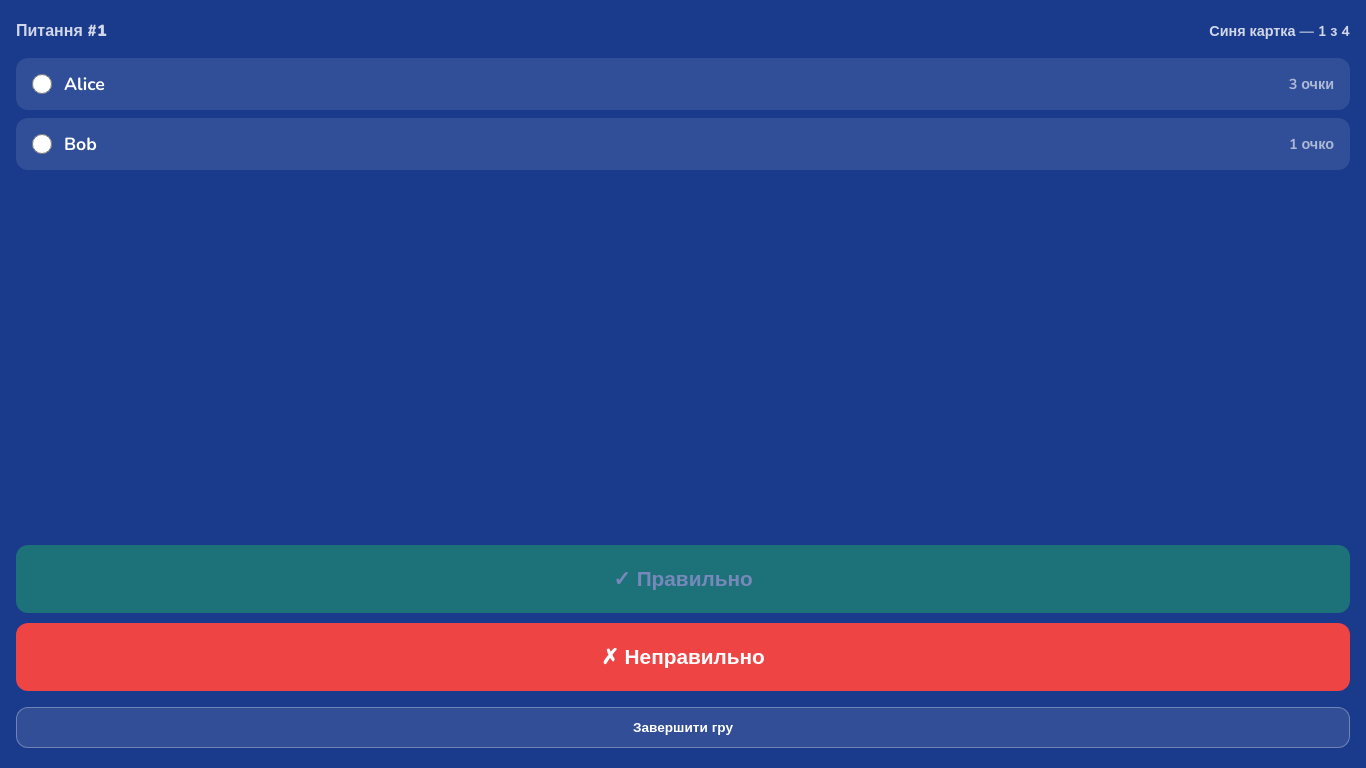
Test: GameScreen › "Correct" button is enabled after selecting a player
Click the radio button labelled "Alice 3 очки": (42, 84) x1=32 y1=74 x2=52 y2=94
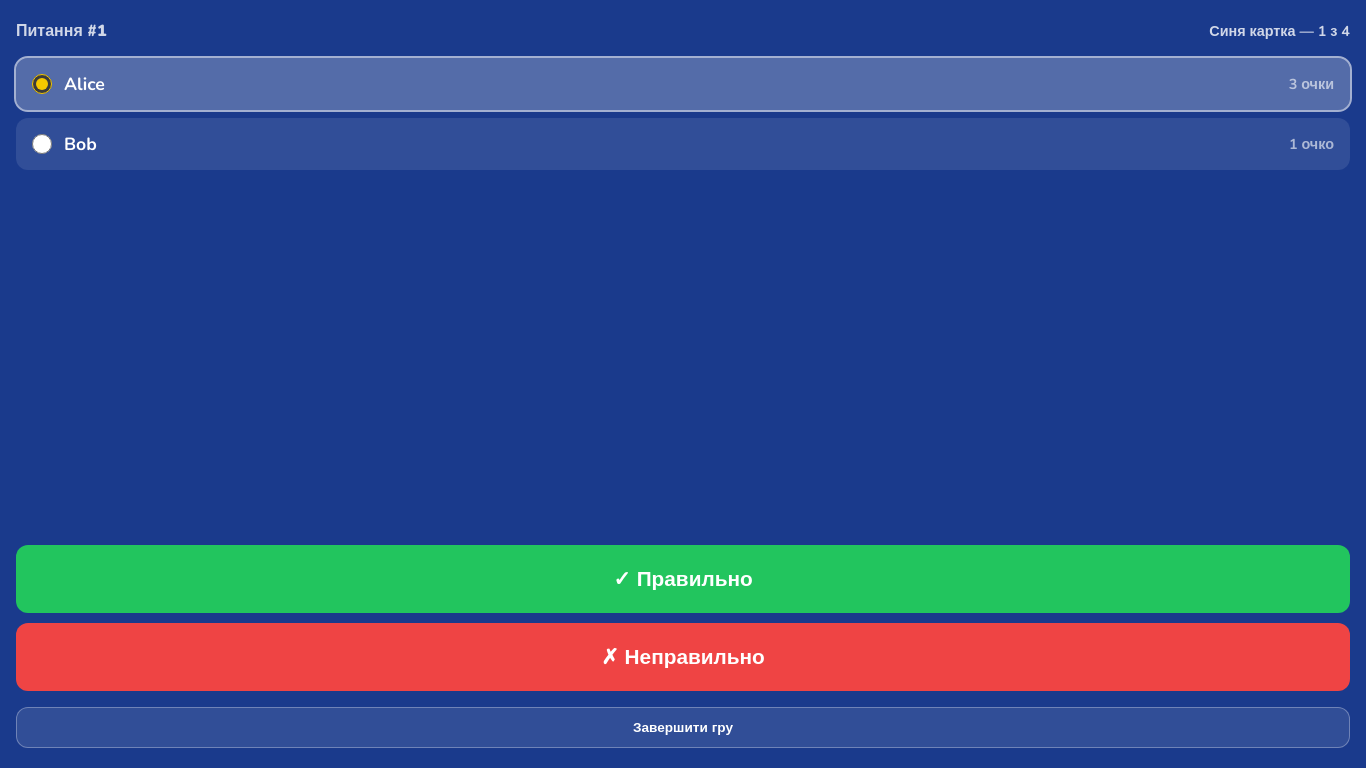
Expected: the button "✓ Правильно" is enabled, x1=16 y1=545 x2=1350 y2=613
